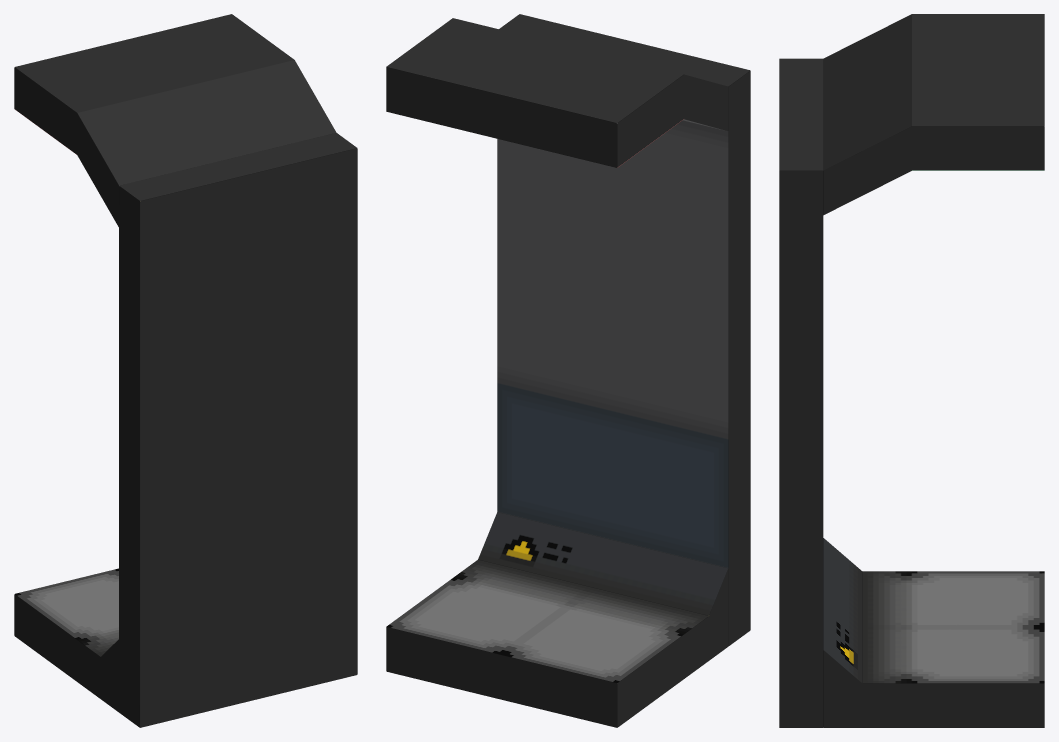
Rendered from ShipWallBase.obj.
The picture shows the model from 3 angles, left to right: view 1: azimuth 30°, elevation 25°; view 2: azimuth 150°, elevation 25°; view 3: azimuth 270°, elevation 25°; orthographic projection. The views are drawn at different scales.
Visible parts, largest first — view 1: ShipWall; view 2: ShipWall; view 3: ShipWall.
Boxes of the visible parts, left/top/right/bottom form: ShipWall: left=14, top=14, right=357, bottom=727; ShipWall: left=386, top=14, right=750, bottom=727; ShipWall: left=779, top=14, right=1044, bottom=727.
Bounding box in the file's own units: 1 × 2.5 × 1.
Materials: 1 (1 with a texture image).
